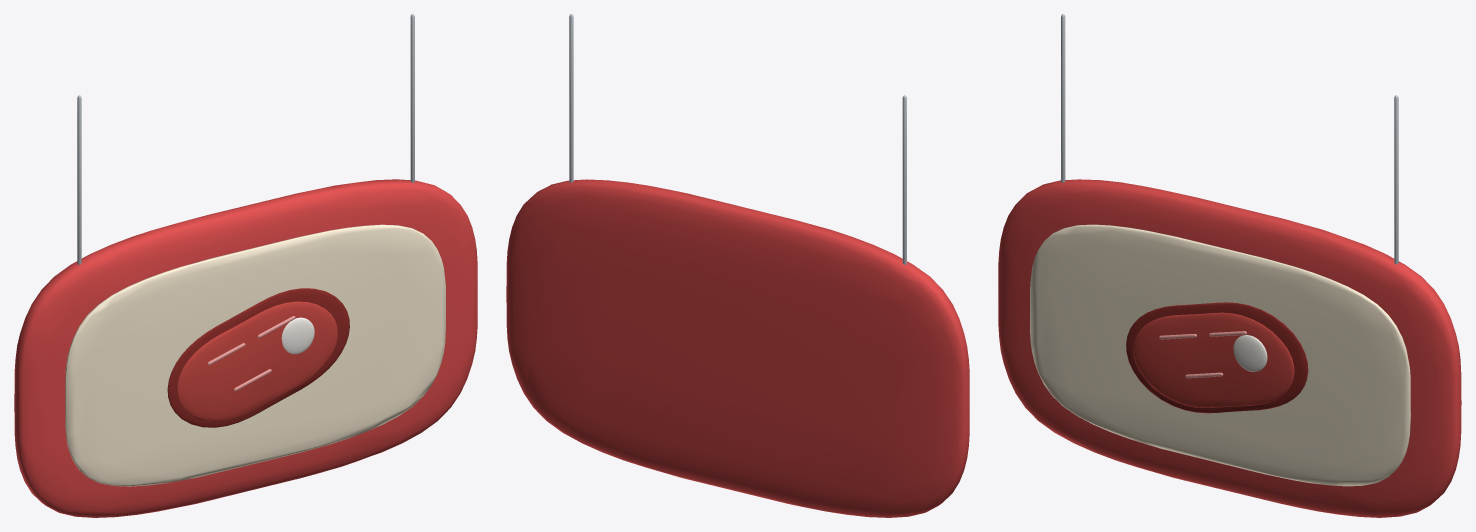
The model's file is letrero_carnes.glb.
3 renders of one model, left to right at view 1: azimuth 30°, elevation 25°; view 2: azimuth 150°, elevation 25°; view 3: azimuth 330°, elevation 25°, orthographic.
Parts seen in each view (by area): view 1: placa letrero, letrero sección, filete.001, filete borde.001, hueso.001, cadena letrero, cadena letrero.001; view 2: letrero sección, cadena letrero, cadena letrero.001; view 3: placa letrero, letrero sección, filete.001, filete borde.001, hueso.001, cadena letrero.001, cadena letrero.
Part boxes in pixels (bbox=[...]): placa letrero: bbox=[65, 224, 445, 486]; letrero sección: bbox=[14, 179, 477, 517]; filete.001: bbox=[176, 301, 337, 422]; filete borde.001: bbox=[167, 288, 349, 427]; hueso.001: bbox=[281, 317, 314, 354]; cadena letrero: bbox=[77, 95, 81, 264]; cadena letrero.001: bbox=[410, 14, 414, 182]; letrero sección: bbox=[506, 179, 969, 517]; cadena letrero: bbox=[902, 95, 906, 264]; cadena letrero.001: bbox=[569, 14, 573, 182]; placa letrero: bbox=[1030, 224, 1410, 486]; letrero sección: bbox=[998, 179, 1461, 517]; filete.001: bbox=[1133, 312, 1294, 407]; filete borde.001: bbox=[1126, 302, 1308, 413]; hueso.001: bbox=[1233, 335, 1267, 371]; cadena letrero.001: bbox=[1394, 95, 1398, 264]; cadena letrero: bbox=[1061, 14, 1065, 182].
Size of the model in its own units: 1.16 by 1.05 by 0.1141.
